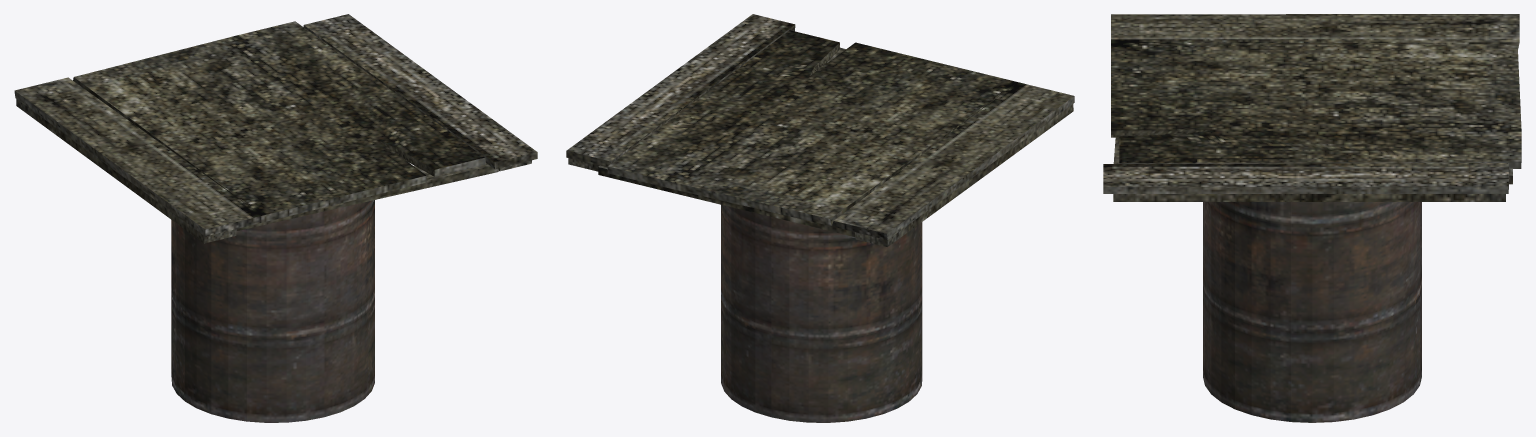
The model's file is table.obj.
3 renders of one model, left to right at view 1: azimuth 30°, elevation 25°; view 2: azimuth 150°, elevation 25°; view 3: azimuth 270°, elevation 25°, orthographic. The views are drawn at different scales.
Parts seen in each view (by area): view 1: 0.027, Цилиндр.001_Цилиндр.003; view 2: 0.027, Цилиндр.001_Цилиндр.003; view 3: 0.027, Цилиндр.001_Цилиндр.003.
Boxes of the visible parts, box(x1,y1,x2,y2) form: 0.027: box(14, 14, 537, 243); Цилиндр.001_Цилиндр.003: box(171, 200, 374, 422); 0.027: box(566, 14, 1074, 246); Цилиндр.001_Цилиндр.003: box(721, 204, 922, 422); 0.027: box(1103, 14, 1521, 201); Цилиндр.001_Цилиндр.003: box(1203, 202, 1421, 422).
Bounding box in the file's own units: 1.36 × 1.02 × 1.39.
